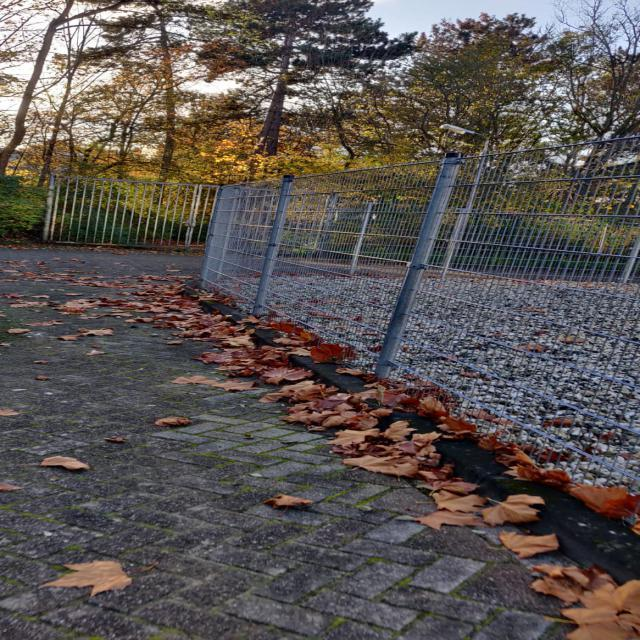fence line: (197, 166, 639, 495)
